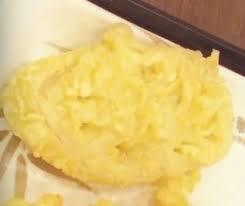satumaimo: (16, 42, 235, 179)
